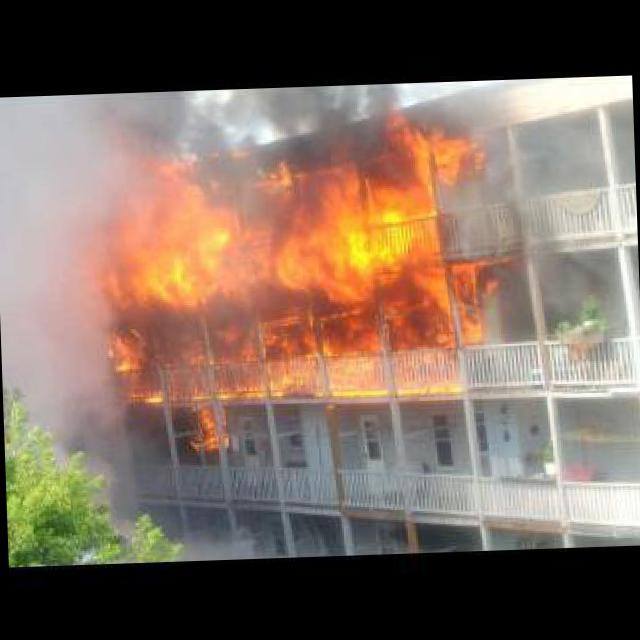Fire: (104, 157, 463, 311), (466, 75, 620, 328), (4, 262, 143, 530), (102, 322, 484, 412), (106, 284, 342, 346), (389, 108, 489, 181), (159, 518, 274, 560), (172, 395, 230, 463)
Smoke: (132, 81, 392, 162)
